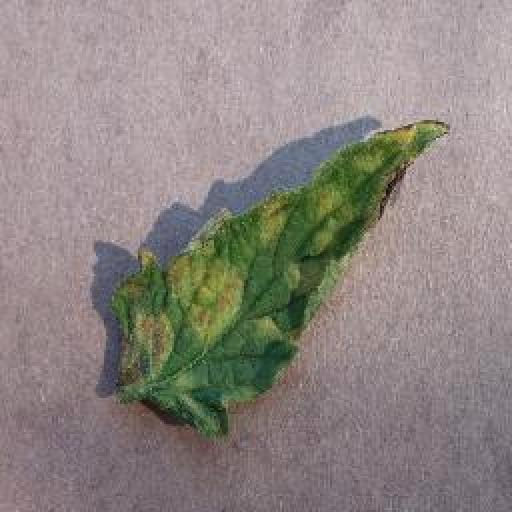disease_tomato: (118, 119, 447, 437)
